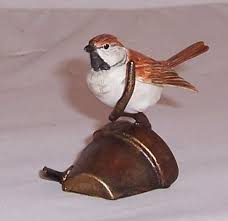hsparrow: (82, 25, 212, 123)
